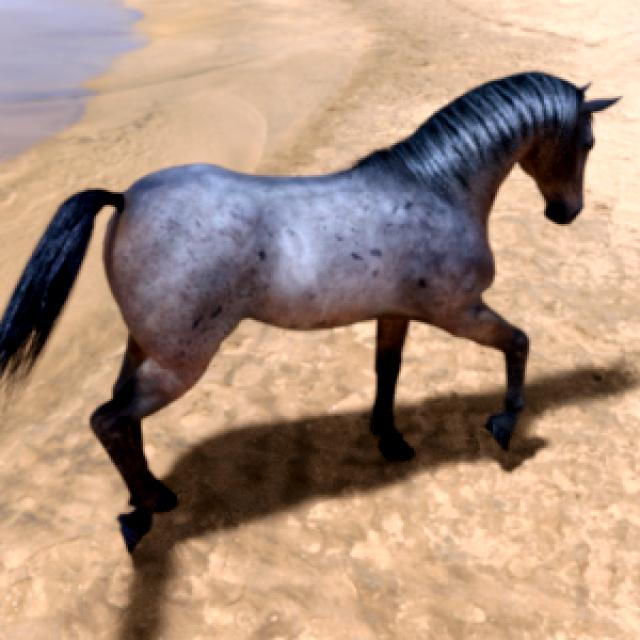horse: (0, 72, 615, 549)
